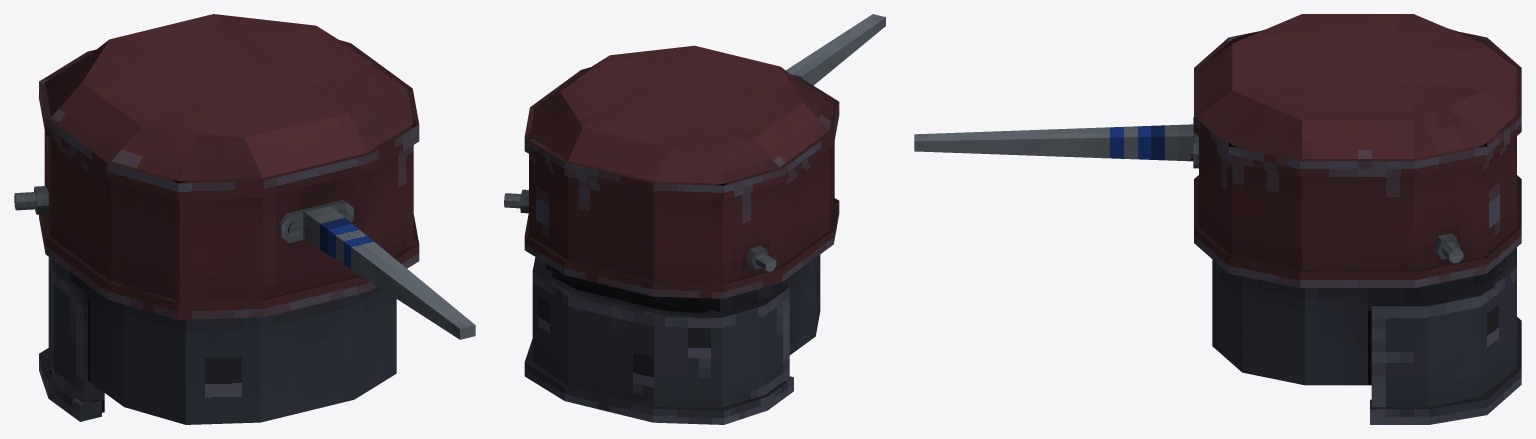
3 renders of one model, left to right at view 1: azimuth 30°, elevation 25°; view 2: azimuth 150°, elevation 25°; view 3: azimuth 270°, elevation 25°, orthographic. The views are drawn at different scales.
Visible parts, largest first — view 1: head; view 2: head; view 3: head.
Part boxes in pixels (x1=…): head: x1=14, y1=14, x2=475, y2=424; head: x1=504, y1=14, x2=885, y2=424; head: x1=914, y1=14, x2=1521, y2=424.
Size of the model in its own units: 0.7856 by 0.7256 by 1.36.
Materials: 1 (1 with a texture image).
